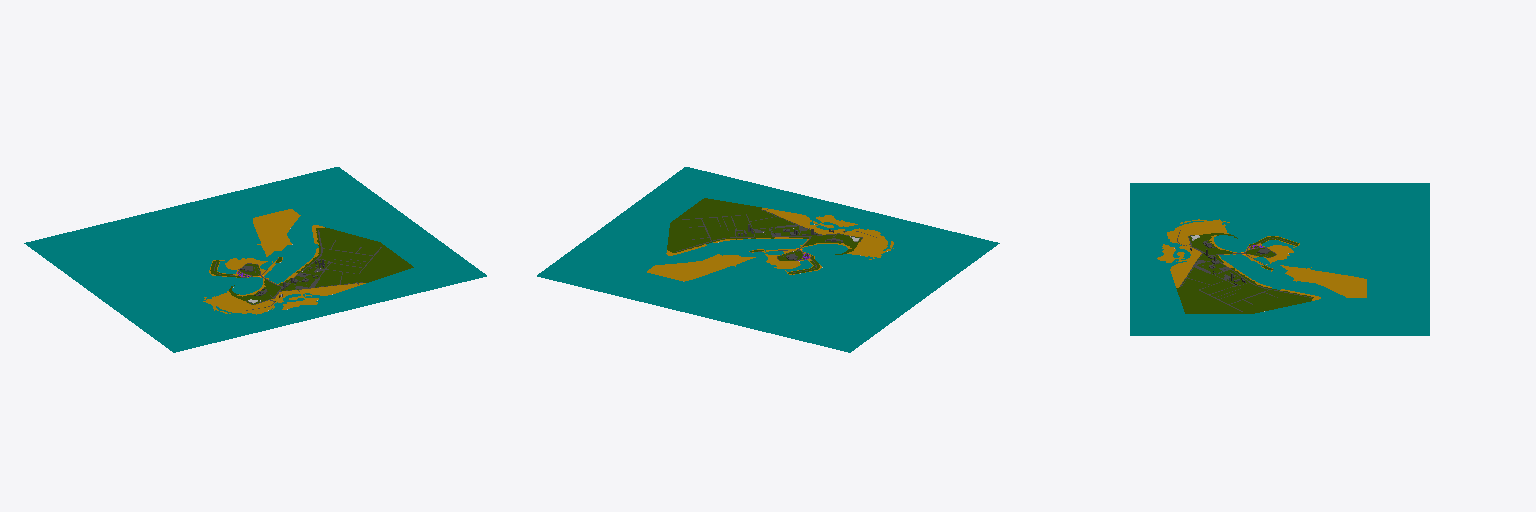
The model's file is abudhabi.obj.
3 views of the same model, side by side, from view 1: azimuth 30°, elevation 25°; view 2: azimuth 150°, elevation 25°; view 3: azimuth 270°, elevation 25° (orthographic).
Visible parts, largest first — view 1: Mesh1 Model; view 2: Mesh1 Model; view 3: Mesh1 Model.
Boxes of the visible parts, x1,y1,x2,y2 form: Mesh1 Model: [24, 167, 486, 352]; Mesh1 Model: [537, 167, 999, 352]; Mesh1 Model: [1130, 183, 1429, 335].
Size of the model in its own units: 10069 by 225 by 8318.